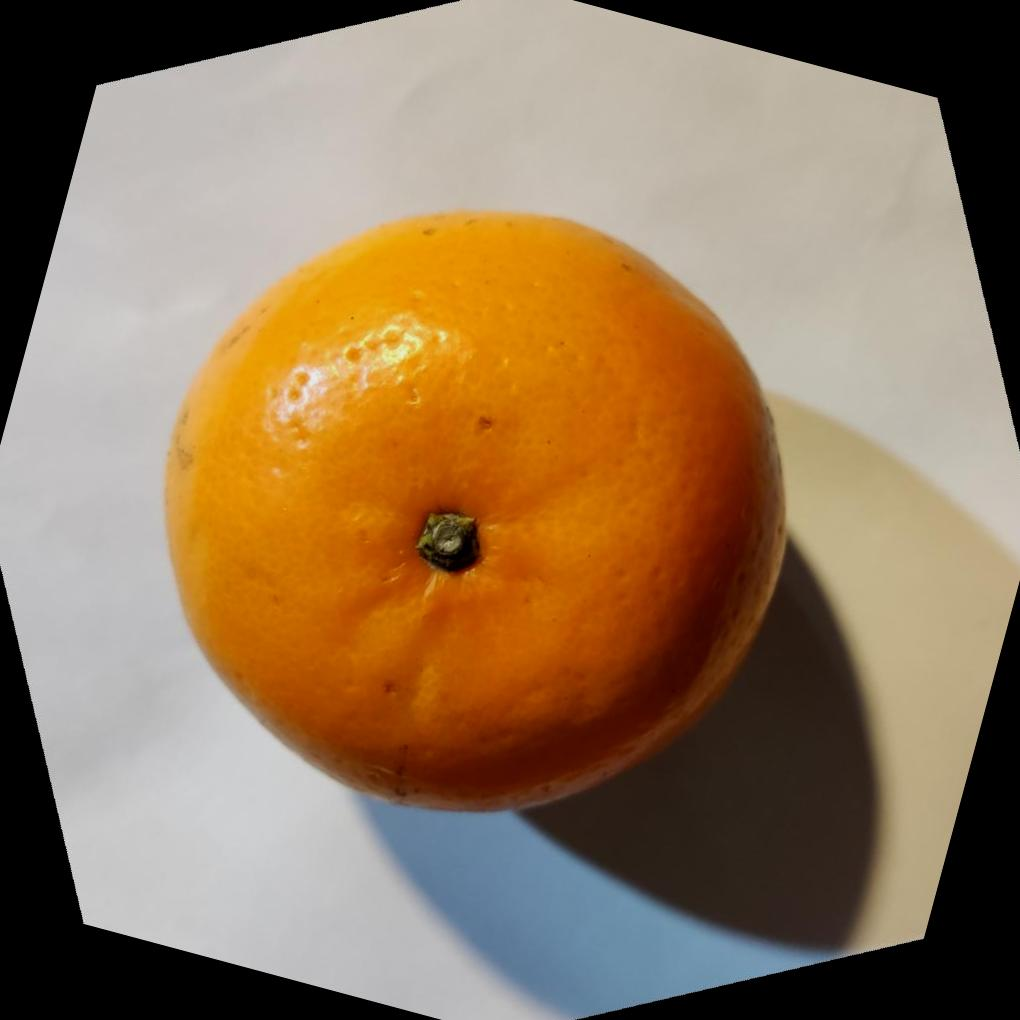FreshGuava: (163, 209, 792, 816)
